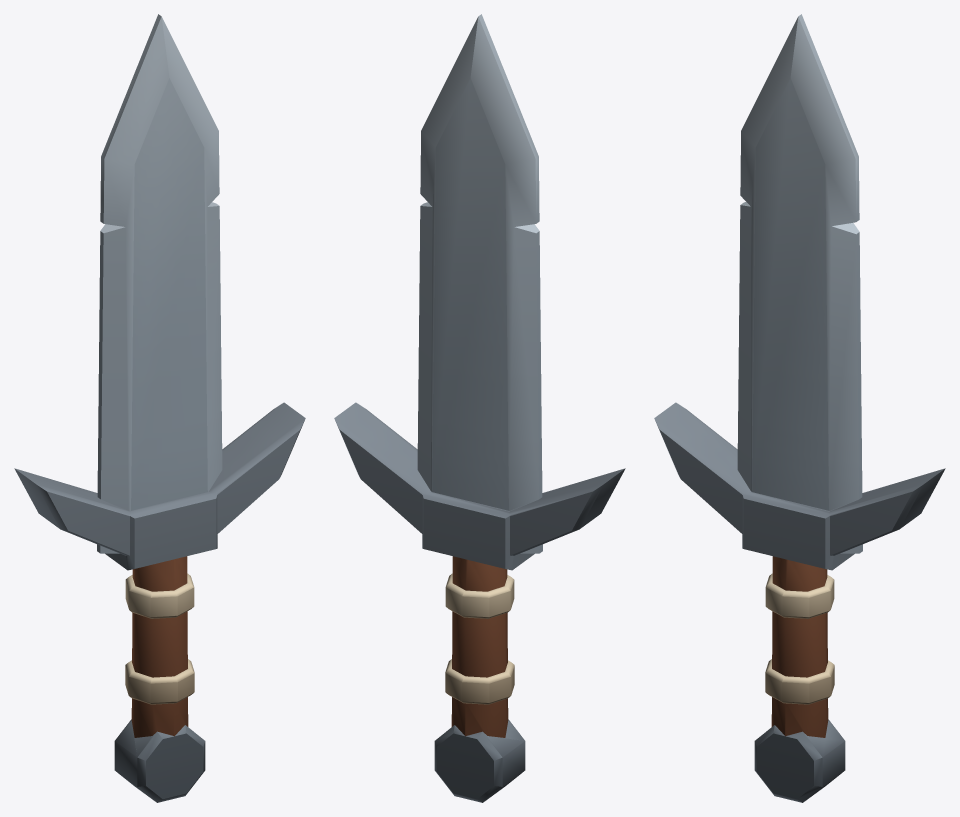
File: broadsword_steel.glb
The picture shows the model from 3 angles, left to right: view 1: azimuth 30°, elevation 25°; view 2: azimuth 150°, elevation 25°; view 3: azimuth 330°, elevation 25°; orthographic projection.
Parts seen in each view (by area): view 1: Item; view 2: Item; view 3: Item.
Part boxes in pixels (box(x1,y1,x2,y2)): Item: box(14, 14, 305, 802); Item: box(334, 14, 625, 802); Item: box(654, 14, 945, 802).
Bounding box in the file's own units: 0.66 × 1.81 × 0.1527.
2 materials, 2 textured.
